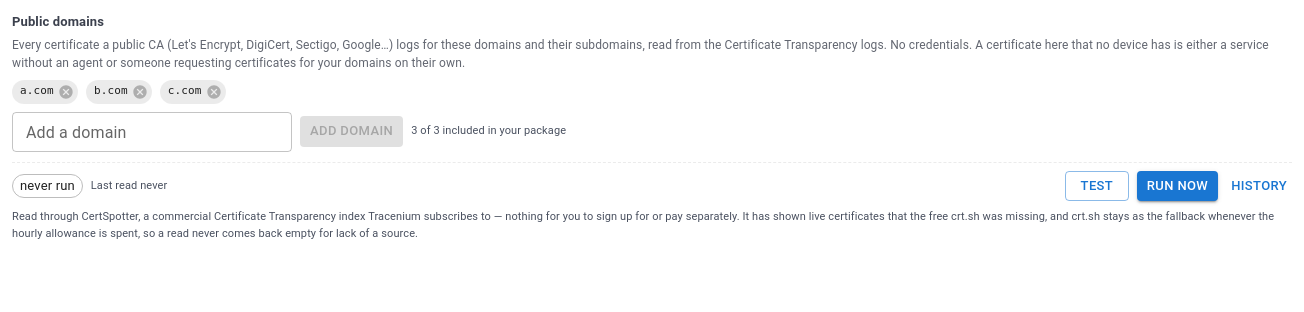
CdpPublicDomains › ⭐ ADR-0026 · el tope del paquete se dice antes de ir al servidor, y dice qué lo levanta
This screenshot has width=1304, height=312.
Expected: the text "3 of 3 included in your package" is shown, [411,123,566,140]
Type "d.com" into the field labelled "Add a domain" at (152, 132), box [12,112,292,152]
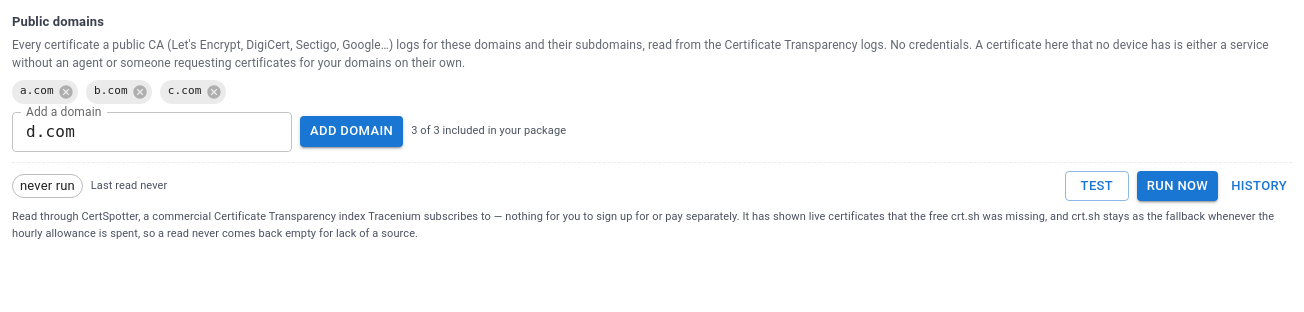
Click the button "Add domain" at (352, 132), box [300,116,403,147]
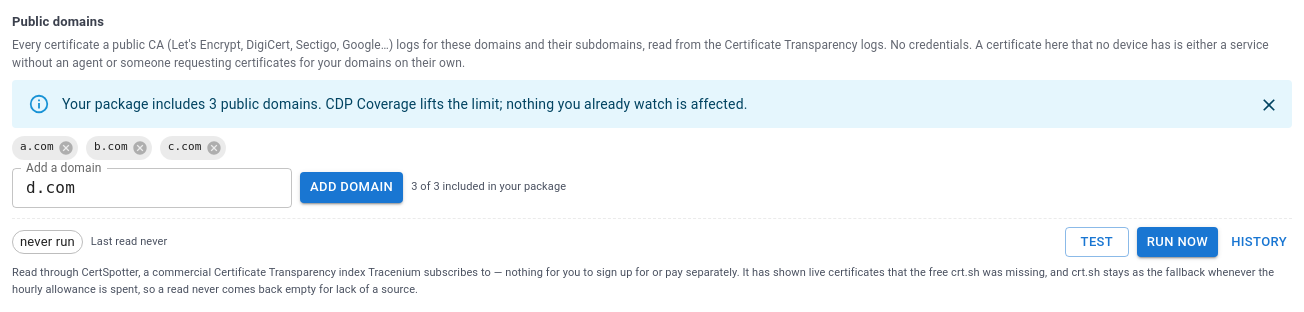
Expected: the text "CDP Coverage lifts the limit; nothing you already watch is affected" is shown, [62,96,748,112]
